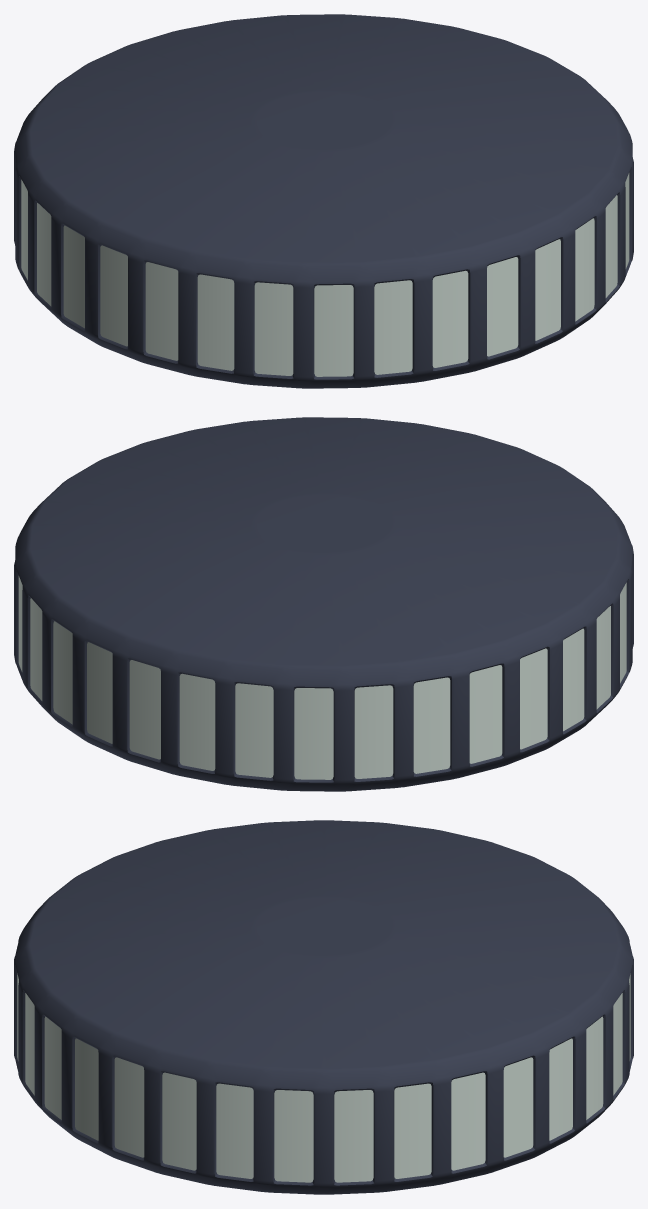
File: taller.fbx
3 views of the same model, one above another, from view 1: azimuth 30°, elevation 25°; view 2: azimuth 150°, elevation 25°; view 3: azimuth 270°, elevation 25° (orthographic).
Parts seen in each view (by area): view 1: Cylinder, Cylinder.009; view 2: Cylinder, Cylinder.009; view 3: Cylinder, Cylinder.009.
Boxes of the visible parts, <box> form: Cylinder: <box>14,14,633,388</box>; Cylinder.009: <box>21,173,629,376</box>; Cylinder: <box>14,417,633,791</box>; Cylinder.009: <box>18,576,626,779</box>; Cylinder: <box>14,820,633,1194</box>; Cylinder.009: <box>17,973,630,1182</box>.
Bounding box in the file's own units: 2469 × 707 × 2469.
